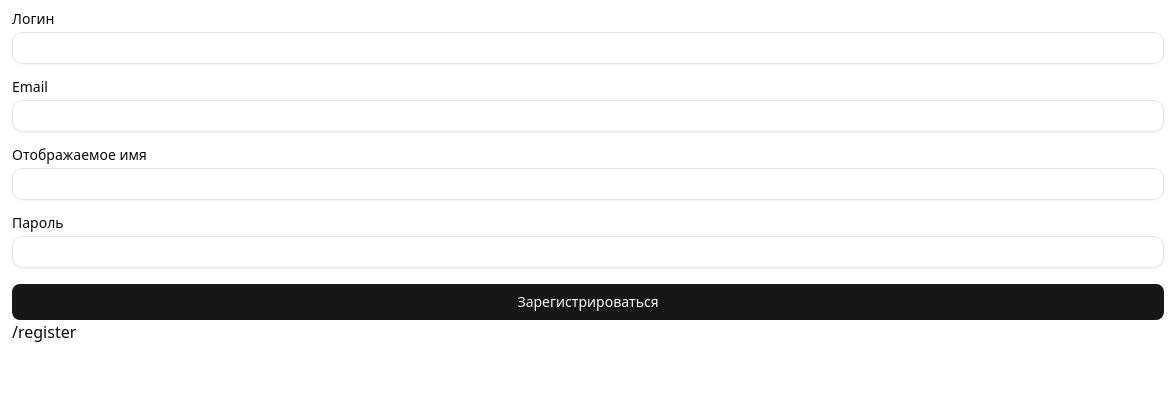
Scenario: RegisterForm › привязывает ошибку валидации username от backend к полю, не к общему сообщению
The image size is (1176, 417).
Type "newplayer" into the field labelled "Логин" at (588, 48), box [12,32,1164,64]
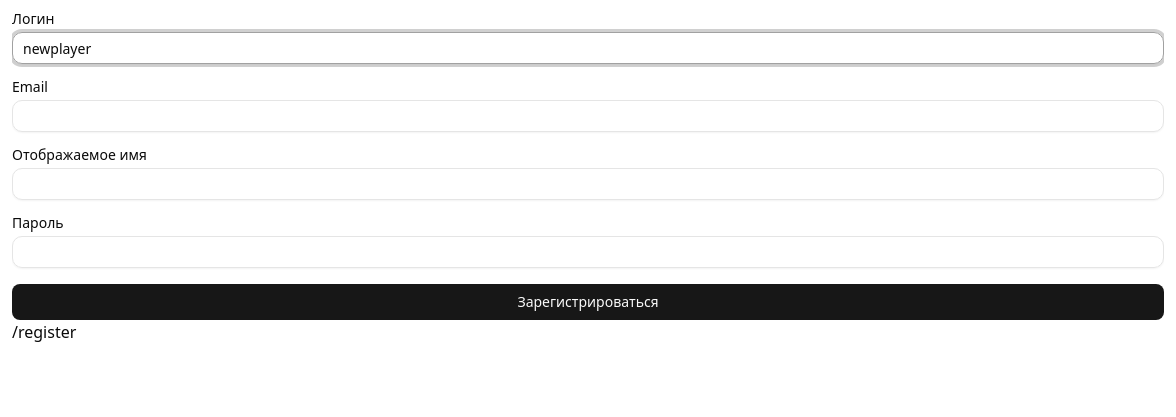
Type "newplayer@example.com" into the field labelled "Email" at (588, 116), box [12,100,1164,132]
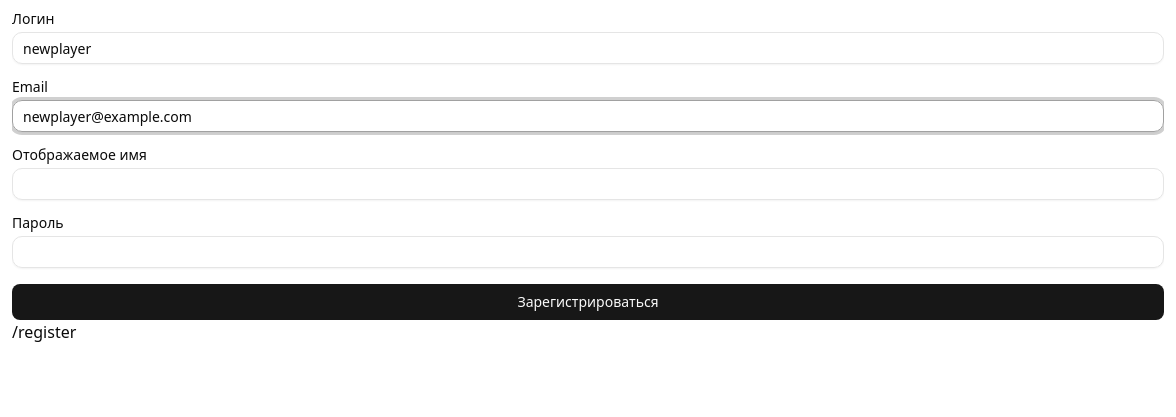
Type "New Player" into the field labelled "Отображаемое имя" at (588, 184), box [12,168,1164,200]
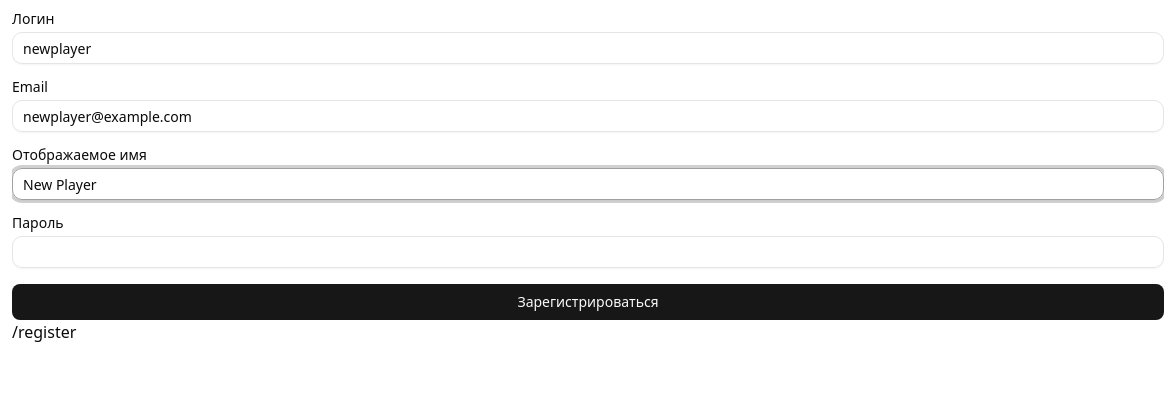
Type "validpass" into the password field labelled "Пароль" at (588, 252), box [12,236,1164,268]
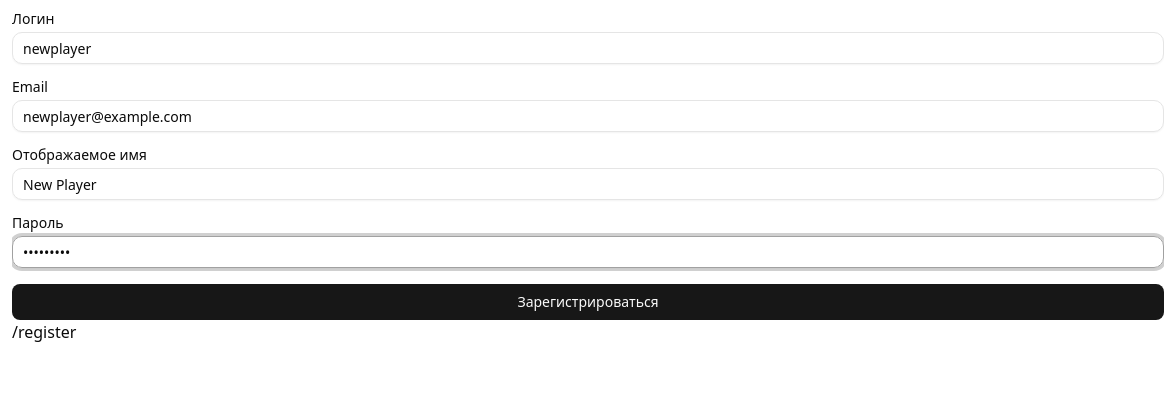
Click the button "Зарегистрироваться" at (588, 302), box [12,284,1164,320]
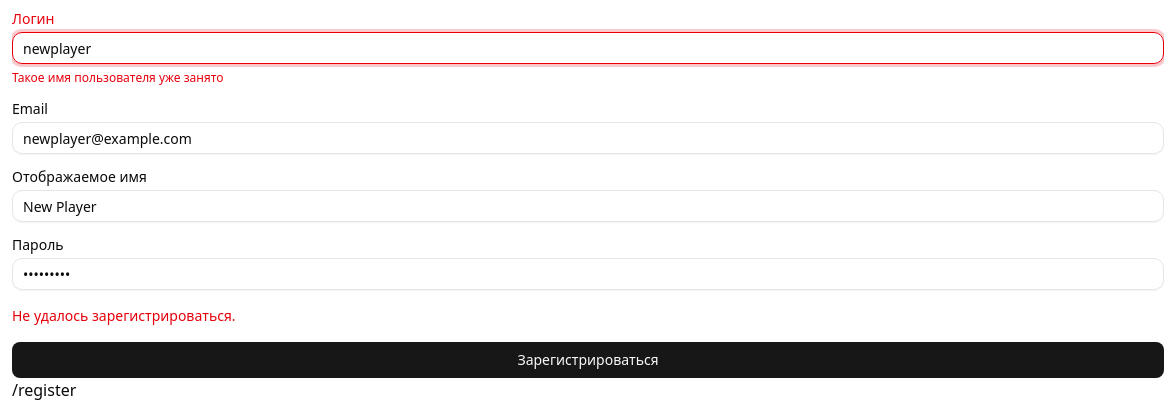
Expected: the text "Такое имя пользователя уже занято" is shown, [12,69,224,86]
